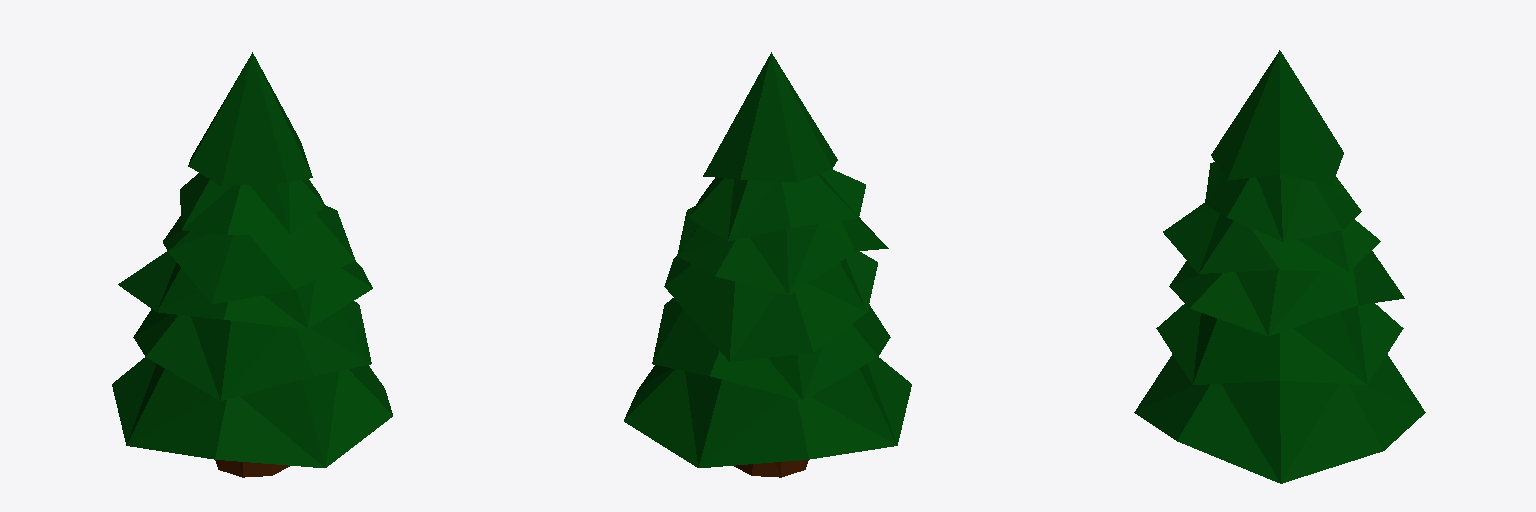
Rendered from tree3.obj.
3 views of the same model, side by side, from view 1: azimuth 30°, elevation 25°; view 2: azimuth 150°, elevation 25°; view 3: azimuth 270°, elevation 25° (orthographic).
Parts seen in each view (by area): view 1: Pinetree_01_Cone.001; view 2: Pinetree_01_Cone.001; view 3: Pinetree_01_Cone.001.
Part boxes in pixels (x1,y1,x2,y2): Pinetree_01_Cone.001: (112, 52, 392, 477); Pinetree_01_Cone.001: (624, 52, 911, 477); Pinetree_01_Cone.001: (1134, 50, 1425, 483).
Size of the model in its own units: 5.39 by 8.13 by 5.25.